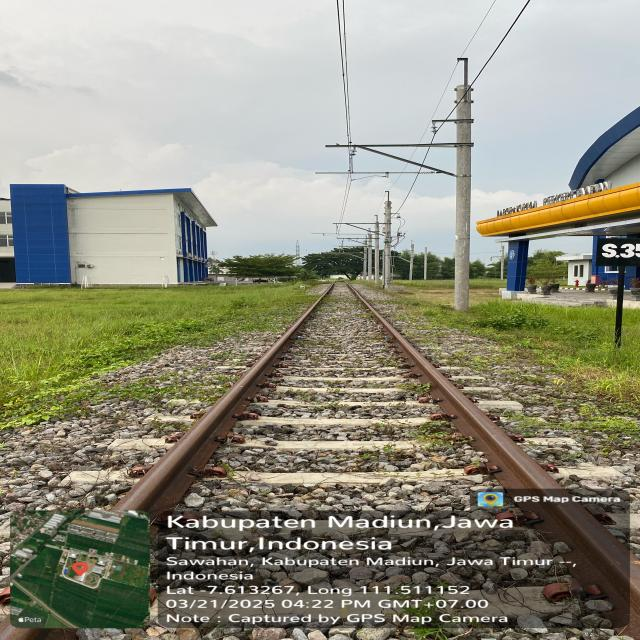rail-detection: (348, 285, 638, 618), (112, 284, 332, 521)
